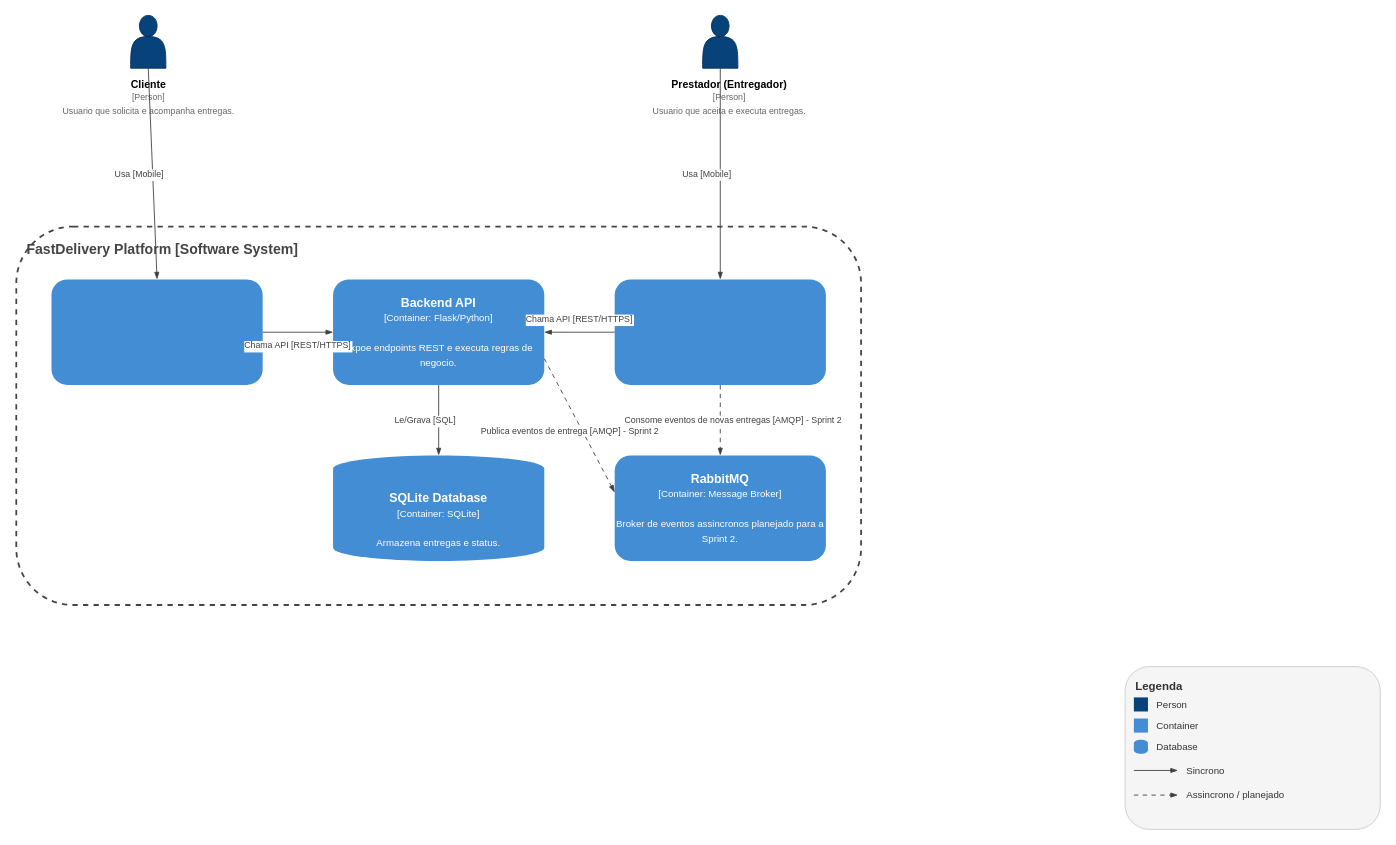
This 1396x845 diagram has some shape labels left out. Each missing label, with the centre of its shape:
"App Cliente [Container: Flutter/Dart] Cria entregas e acompanha o status." goes at [156,332].
"App Entregador [Container: Flutter/Dart] Visualiza, aceita e atualiza entregas." goes at [719,332].
